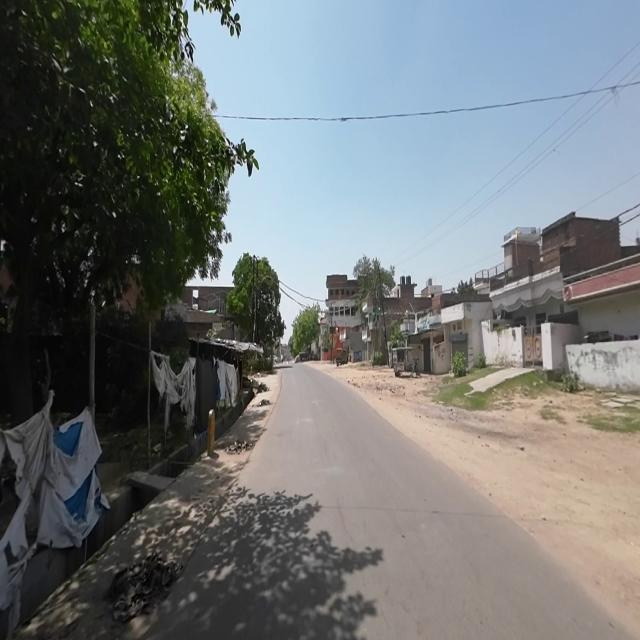Garbage: (224, 440, 254, 452), (258, 398, 272, 408), (260, 383, 271, 392)
